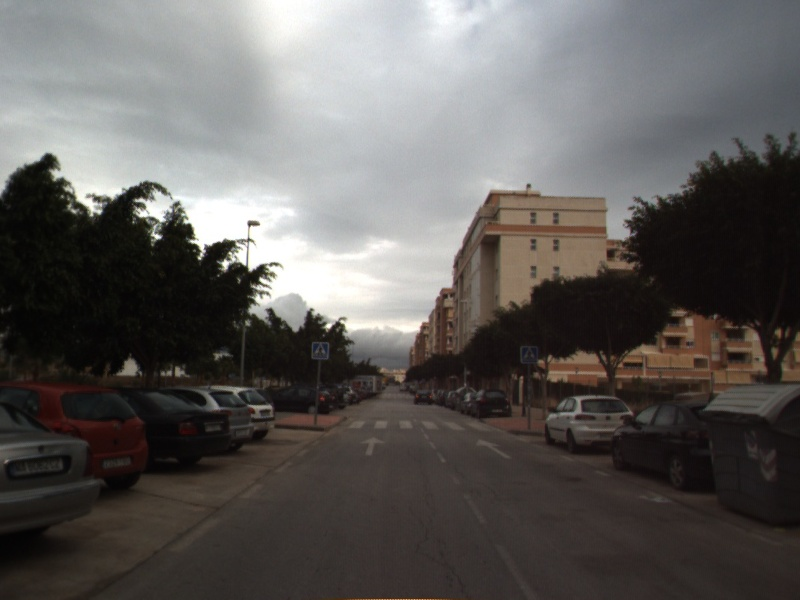STRAIGHT: (474, 437, 514, 461), (358, 435, 388, 457)
